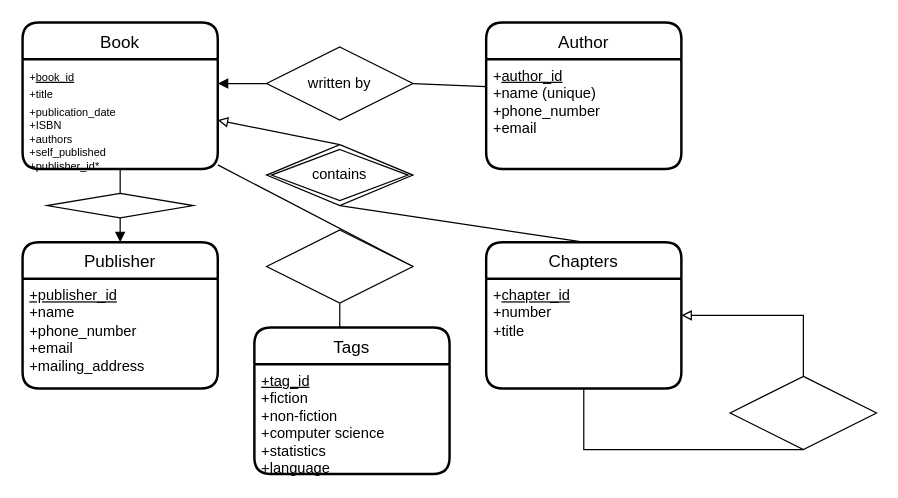
Image size: 898x498. Some labels were removed from this diagram. Each missing label, with the centre of its shape:
about: the point at 119,205
on: the point at 339,266
replied to: the point at 803,412
